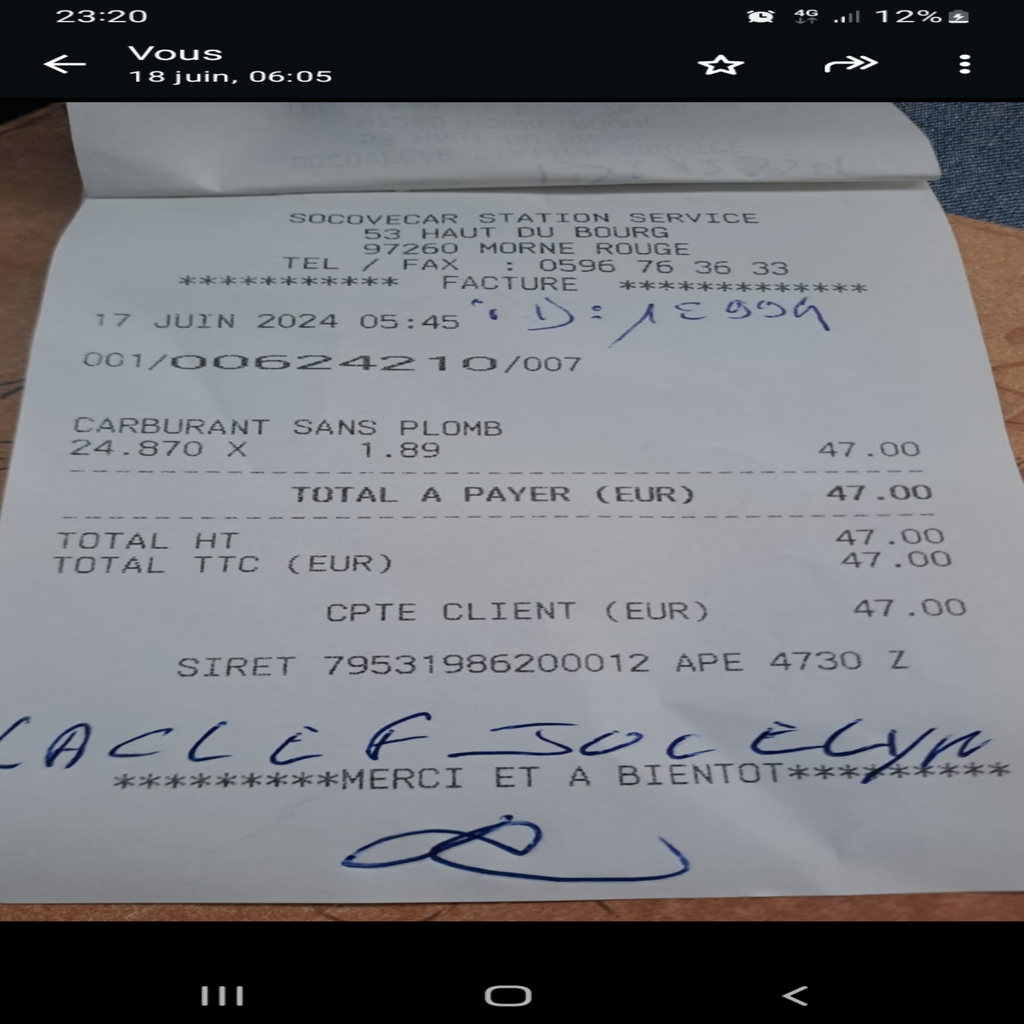recipt: (2, 174, 1020, 917)
